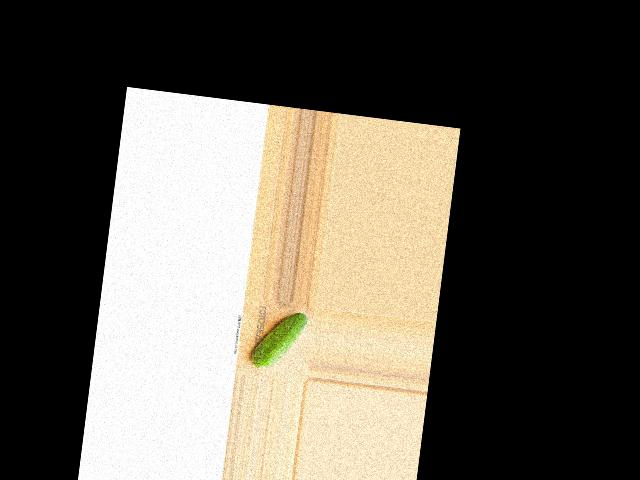cucumber: (249, 307, 308, 374)
